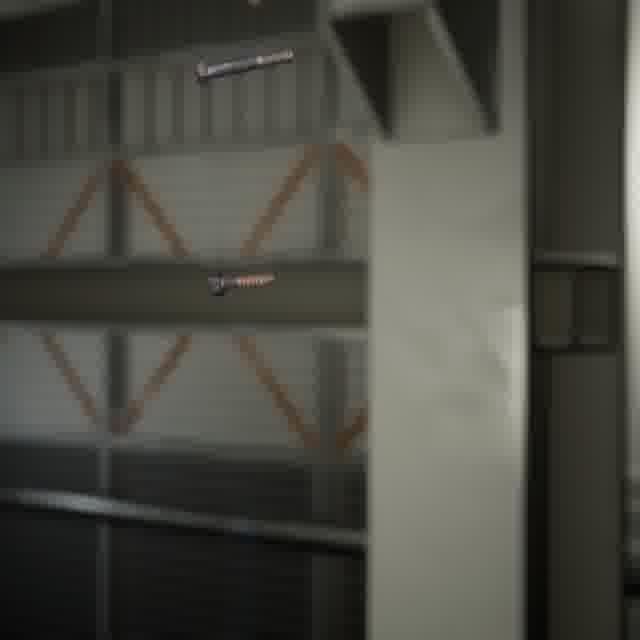bolt: (189, 43, 298, 90), (205, 266, 279, 301)
